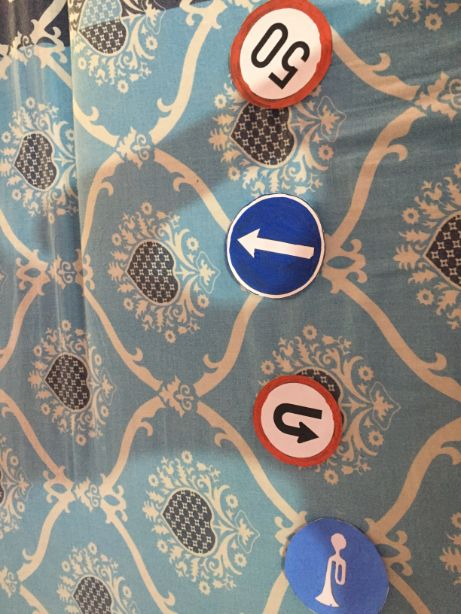blow-horn: (282, 520, 375, 614)
go-stright: (223, 193, 328, 298)
speed-50: (230, 2, 335, 107)
u-turn: (255, 375, 342, 462)
